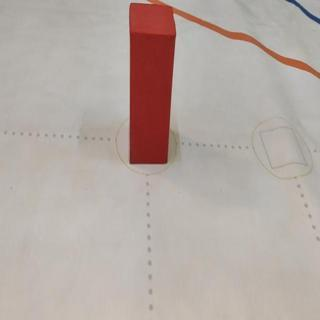redbox: (129, 1, 176, 165)
